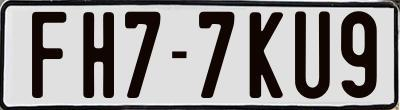7: (125, 11, 163, 103), (198, 9, 238, 96)
9: (340, 8, 376, 100)
F: (30, 11, 70, 98)
H: (82, 9, 114, 99)
K: (250, 11, 284, 103)
U: (294, 11, 331, 104)
